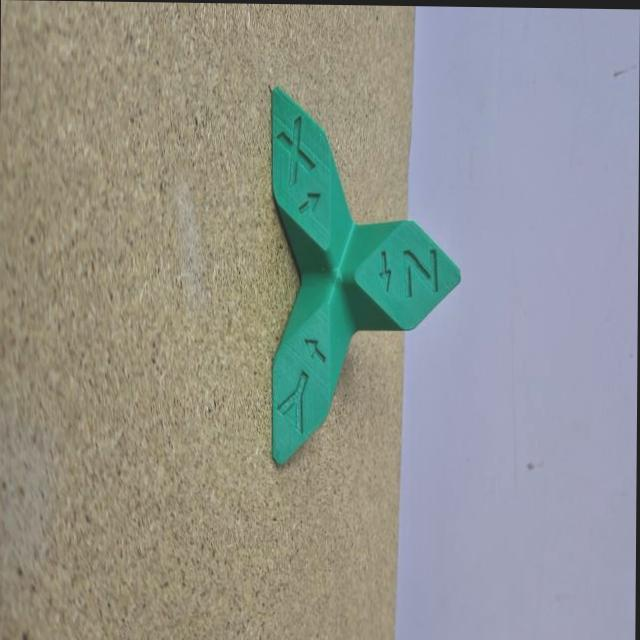eje: (263, 87, 466, 477)
